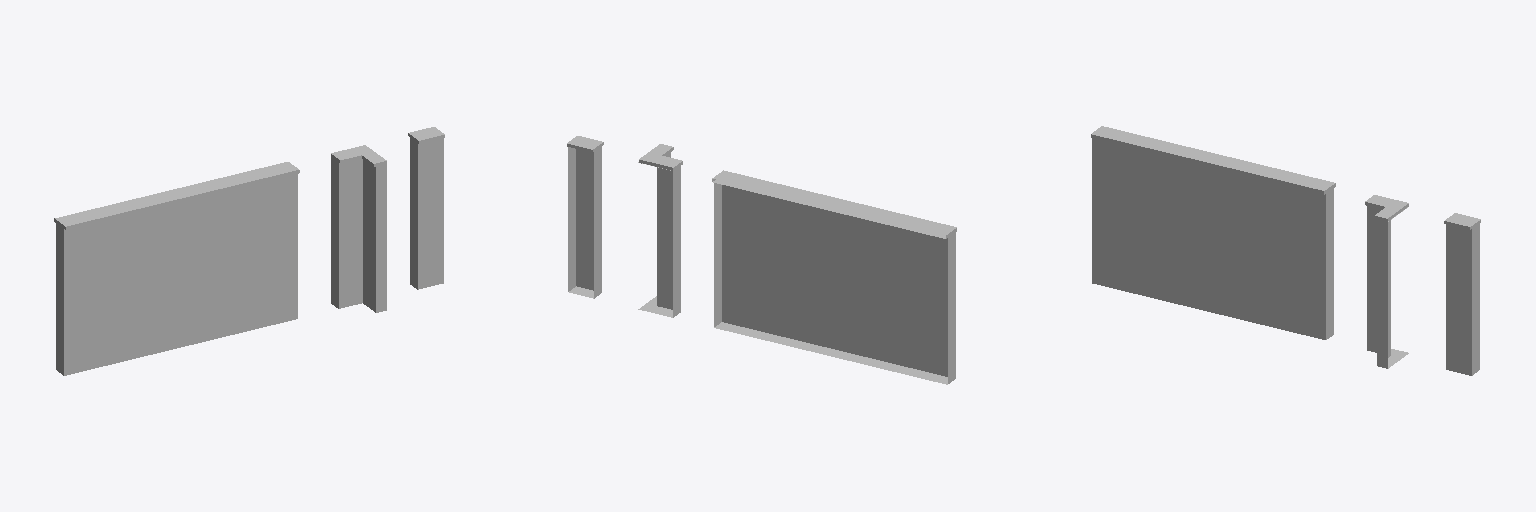
File: wall.obj
3 renders of one model, left to right at view 1: azimuth 30°, elevation 25°; view 2: azimuth 150°, elevation 25°; view 3: azimuth 330°, elevation 25°, orthographic.
Parts seen in each view (by area): view 1: Object_2; view 2: Object_2; view 3: Object_2.
Boxes of the visible parts, x1,y1,x2,y2 form: Object_2: [54, 127, 444, 375]; Object_2: [567, 136, 956, 384]; Object_2: [1091, 126, 1480, 375].
Size of the model in its own units: 286 by 108 by 30.58.